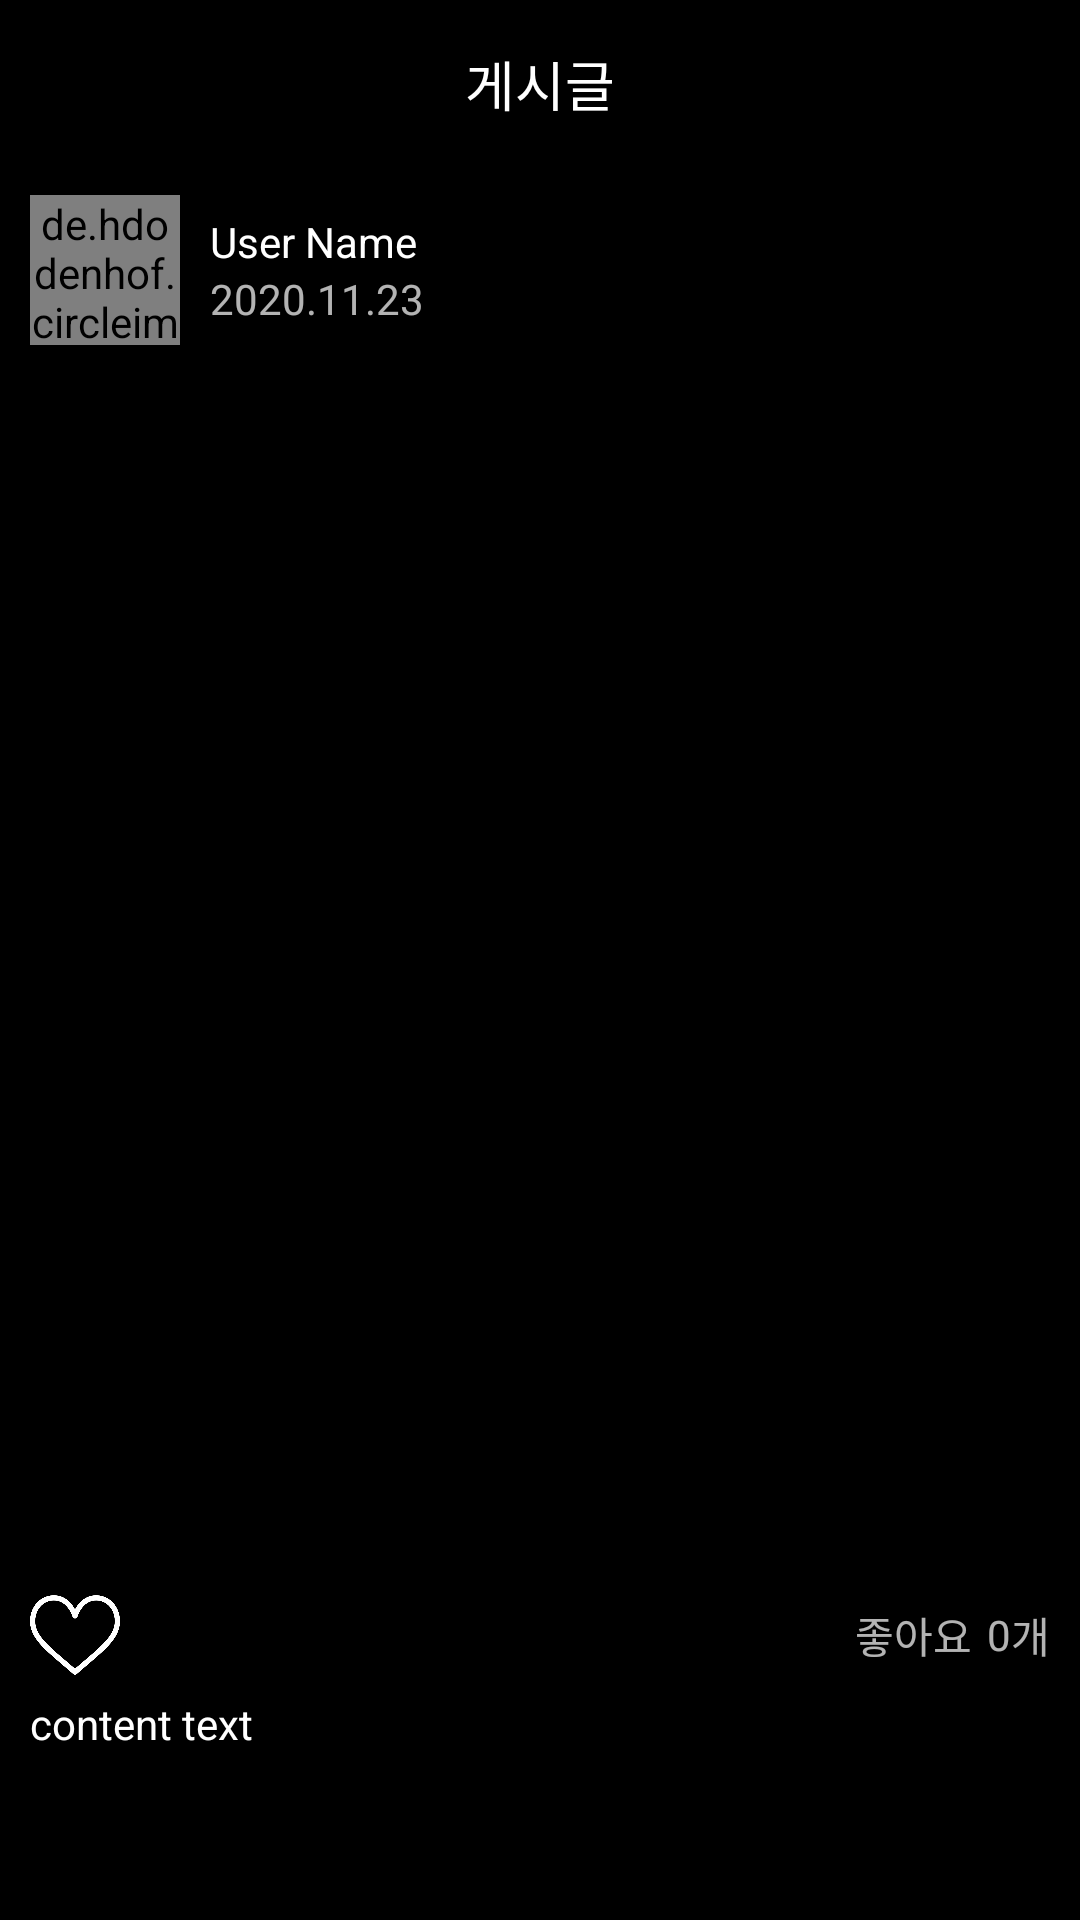

Icon bounding boxes for this 1080×1920 phone screenshot, format bbox(x1, y1, x2, y2):
like on off: bbox(30, 1595, 120, 1675)
